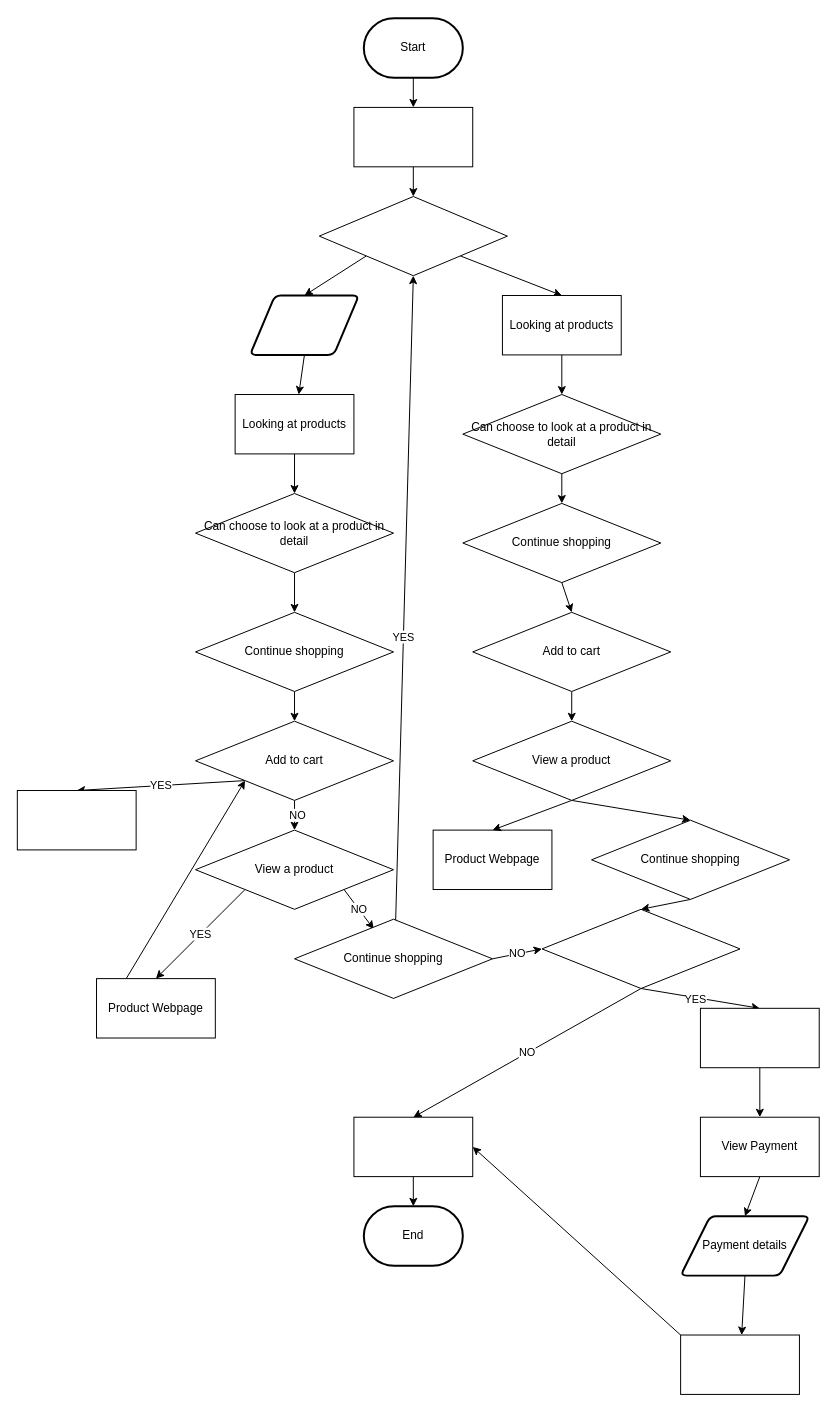
This 837x1412 diagram has some shape labels left out. The centre of each missing label's shape, as x and y in pixels:
"Added to cart notification" belongs at pixel 76 820.
"Checkout" belongs at pixel 640 948.
"Chooses to either search for a product or explore products" belongs at pixel 412 236.
"Enters the website" belongs at pixel 413 136.
"Leave the website" belongs at pixel 413 1146.
"Product details" belongs at pixel 303 324.
"Recieve order confirmation and email notification about their purchase" belongs at pixel 739 1364.
"View Cart" belongs at pixel 759 1037.
